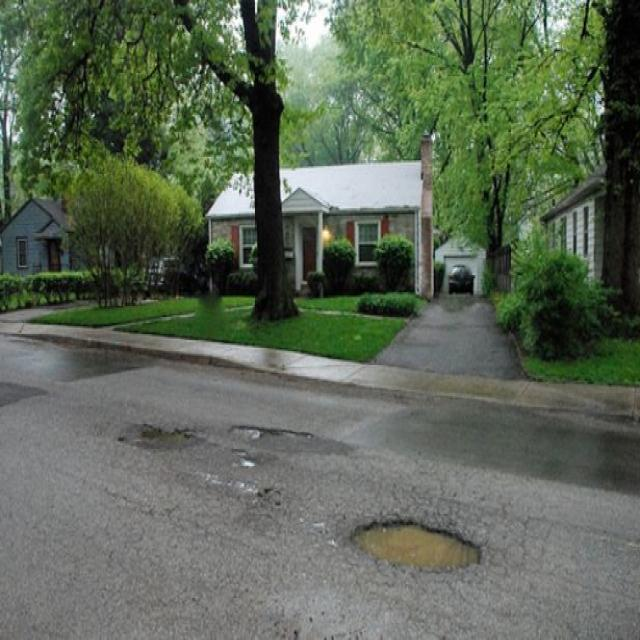pothole: (352, 511, 488, 576)
